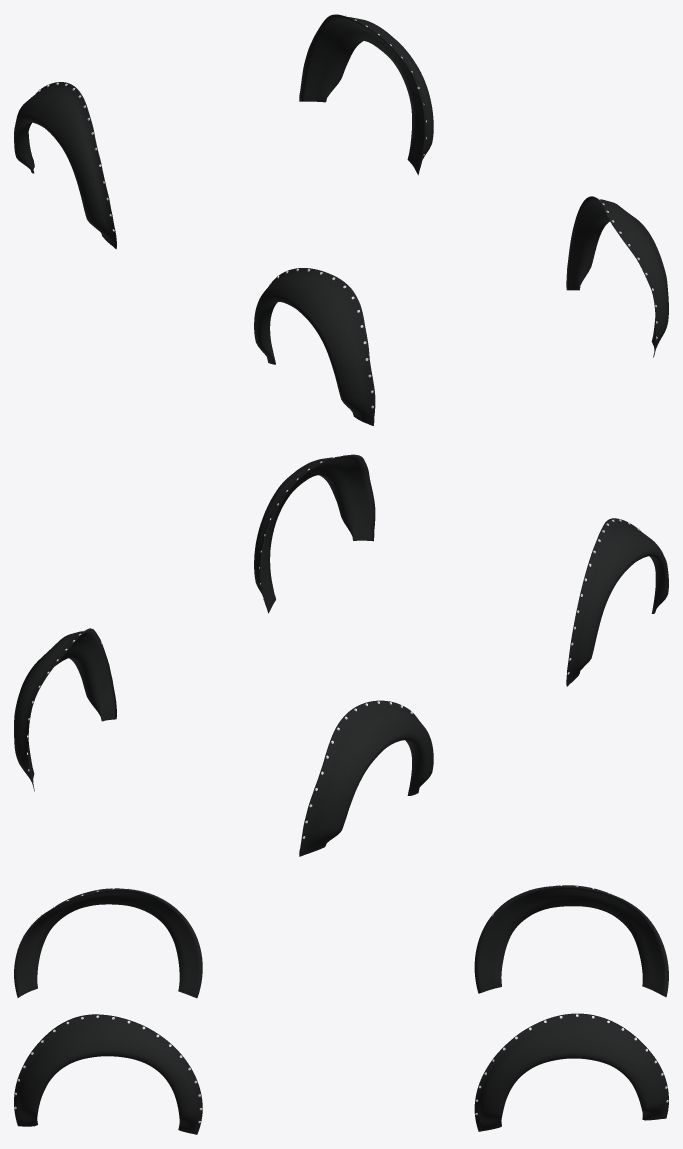
File: WB02_widebody_fenders_carbon.glb
3 views of the same model, one above another, from view 1: azimuth 30°, elevation 25°; view 2: azimuth 150°, elevation 25°; view 3: azimuth 270°, elevation 25° (orthographic). The views are drawn at different scales.
Parts seen in each view (by area): view 1: MOD_ND_WB02_front_R, MOD_ND_WB02_rear_L, MOD_ND_WB02_rear_R, MOD_ND_WB02_front_L; view 2: MOD_ND_WB02_rear_R, MOD_ND_WB02_front_R, MOD_ND_WB02_front_L, MOD_ND_WB02_rear_L; view 3: MOD_ND_WB02_rear_L, MOD_ND_WB02_front_L, MOD_ND_WB02_rear_R, MOD_ND_WB02_front_R.
Part boxes in pixels (box(x1,y1,x2,y2)): MOD_ND_WB02_front_R: box(254, 268, 375, 425); MOD_ND_WB02_rear_L: box(299, 14, 433, 175); MOD_ND_WB02_rear_R: box(14, 82, 116, 249); MOD_ND_WB02_front_L: box(566, 196, 668, 357); MOD_ND_WB02_rear_R: box(299, 700, 433, 856); MOD_ND_WB02_front_R: box(566, 518, 668, 686); MOD_ND_WB02_front_L: box(254, 454, 375, 613); MOD_ND_WB02_rear_L: box(14, 628, 116, 791); MOD_ND_WB02_rear_L: box(474, 1013, 668, 1131); MOD_ND_WB02_front_L: box(14, 1014, 202, 1134); MOD_ND_WB02_rear_R: box(474, 885, 668, 997); MOD_ND_WB02_front_R: box(14, 888, 202, 998).
Bounding box in the file's own units: 1.87 × 0.6413 × 3.26.
2 materials, 1 textured.
